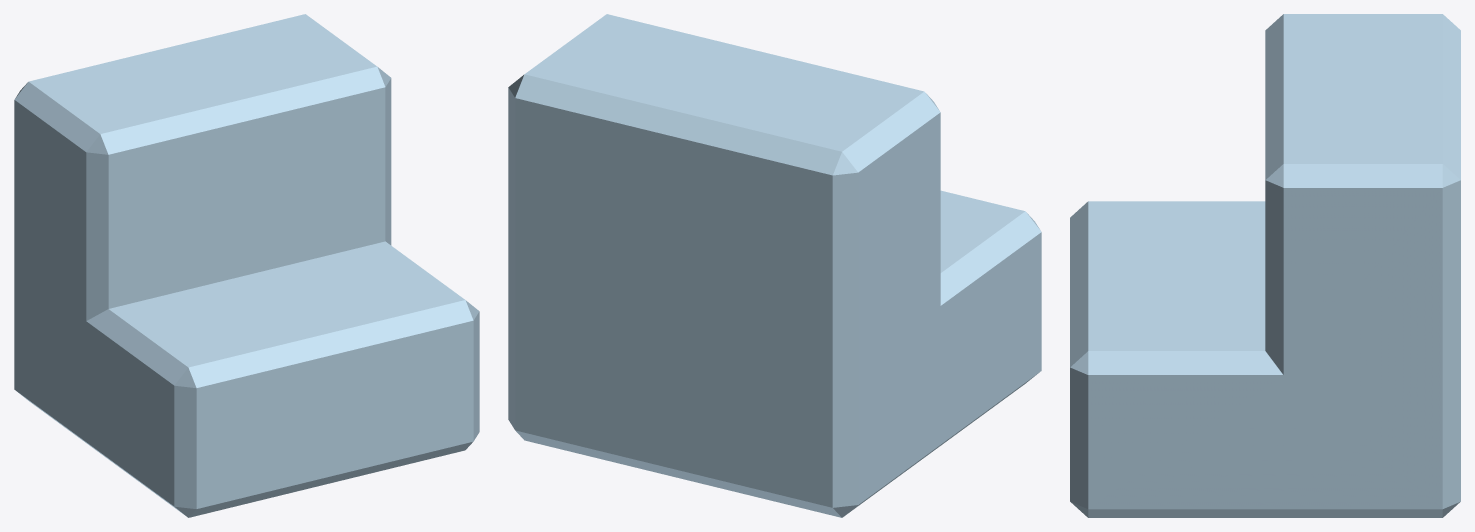
Rendered from R4B_Step_LOD1.glb.
The picture shows the model from 3 angles, left to right: view 1: azimuth 30°, elevation 25°; view 2: azimuth 150°, elevation 25°; view 3: azimuth 270°, elevation 25°; orthographic projection. The views are drawn at different scales.
Parts seen in each view (by area): view 1: R4B_Step_LOD1; view 2: R4B_Step_LOD1; view 3: R4B_Step_LOD1.
Boxes of the visible parts, x1=… form: R4B_Step_LOD1: x1=14, y1=14, x2=479, y2=517; R4B_Step_LOD1: x1=508, y1=14, x2=1041, y2=517; R4B_Step_LOD1: x1=1070, y1=14, x2=1460, y2=517.
Bounding box in the file's own units: 0.52 × 0.52 × 0.52.
